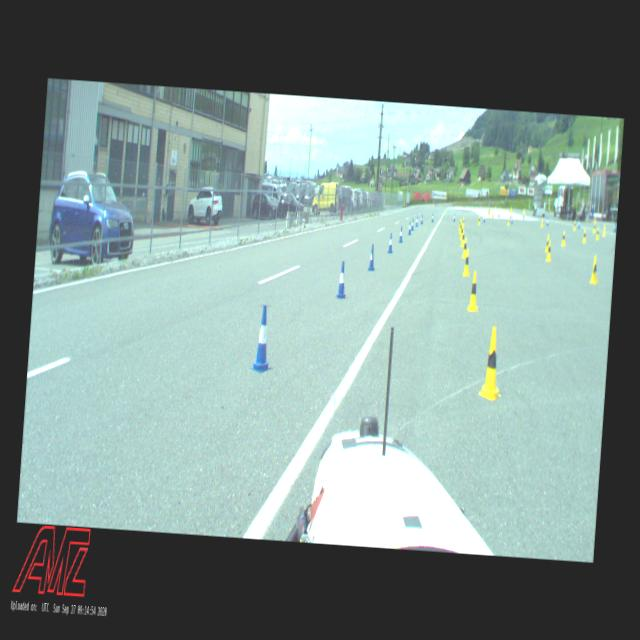blue_cone: (250, 304, 272, 372), (336, 260, 348, 298), (368, 243, 376, 270), (387, 232, 393, 252), (398, 226, 403, 242), (407, 221, 411, 234), (411, 218, 414, 230), (415, 216, 418, 227), (420, 214, 423, 224), (431, 213, 434, 222), (453, 212, 455, 222), (546, 216, 548, 225)
yellow_cone: (480, 326, 504, 401), (467, 270, 480, 310), (590, 255, 599, 282), (463, 249, 471, 276), (546, 241, 552, 261), (462, 237, 467, 257), (545, 234, 550, 250), (460, 229, 464, 246), (562, 230, 566, 246), (460, 223, 464, 239), (592, 221, 596, 232), (583, 228, 586, 242), (602, 226, 606, 236), (458, 218, 461, 230), (540, 217, 544, 226), (459, 222, 462, 234), (477, 214, 480, 224), (461, 216, 464, 226), (596, 227, 598, 239)
